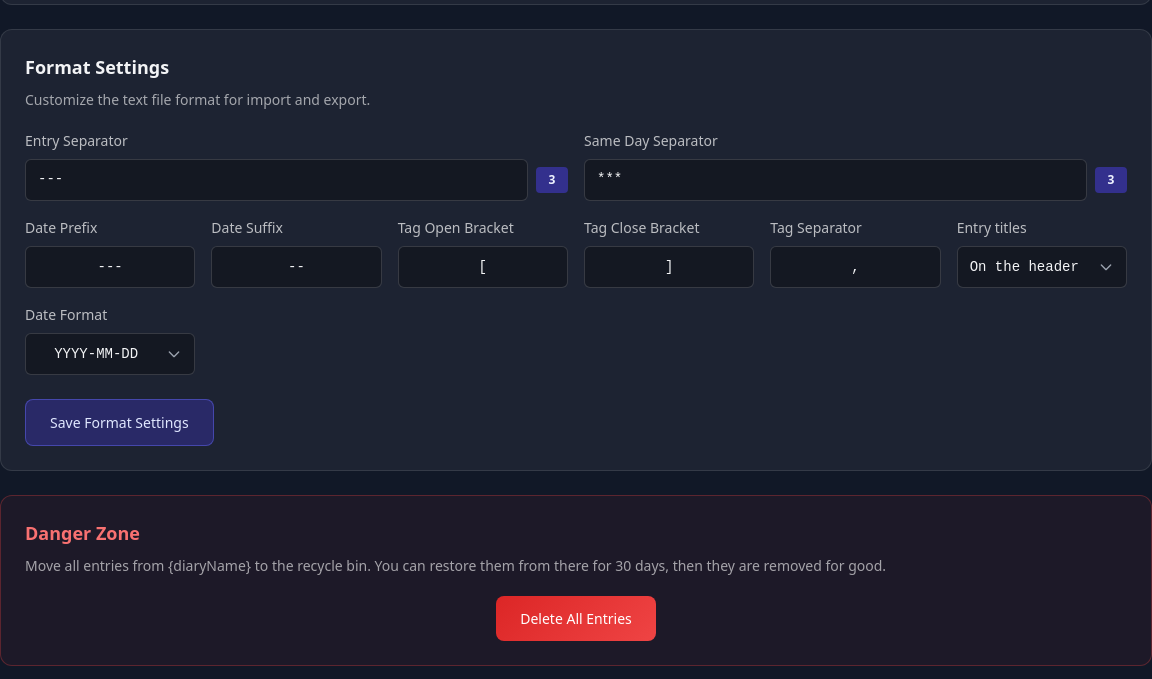
it: ImportExport refusals › shows the reason a refused format save gives, in en
(page scrolled)
Click the button "Save Format Settings" at (119, 423), box [25,399,214,446]
(page scrolled)
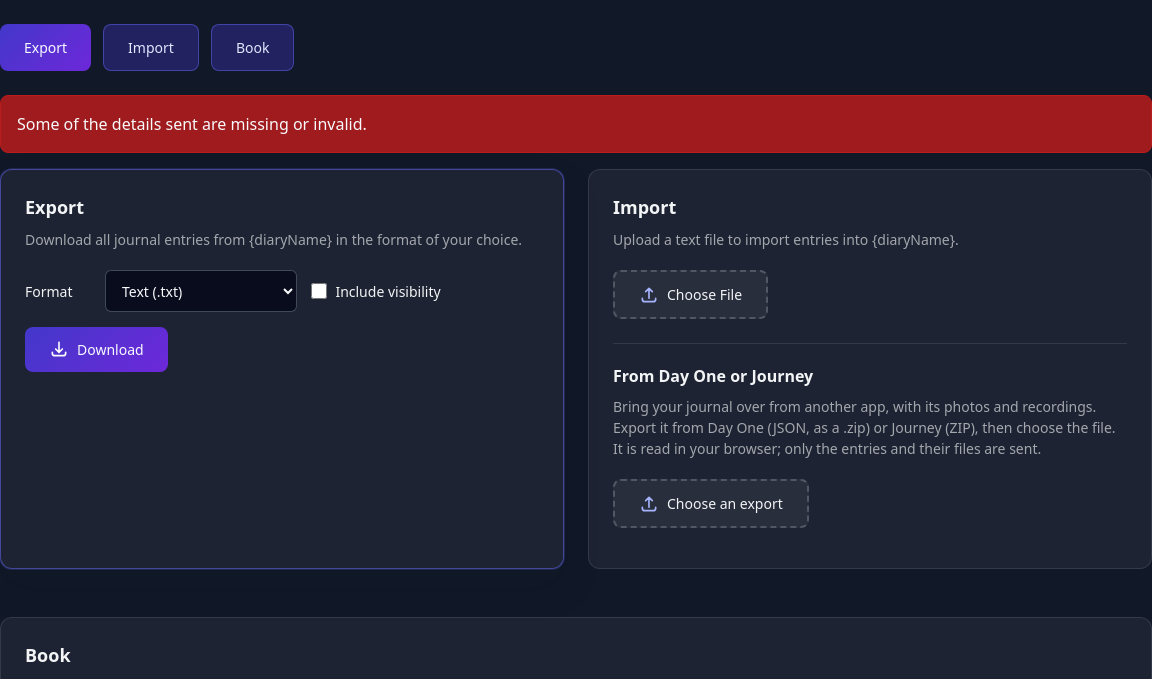
Result: the text "Some of the details sent are missing or invalid." is shown at [0,95,1151,153]
